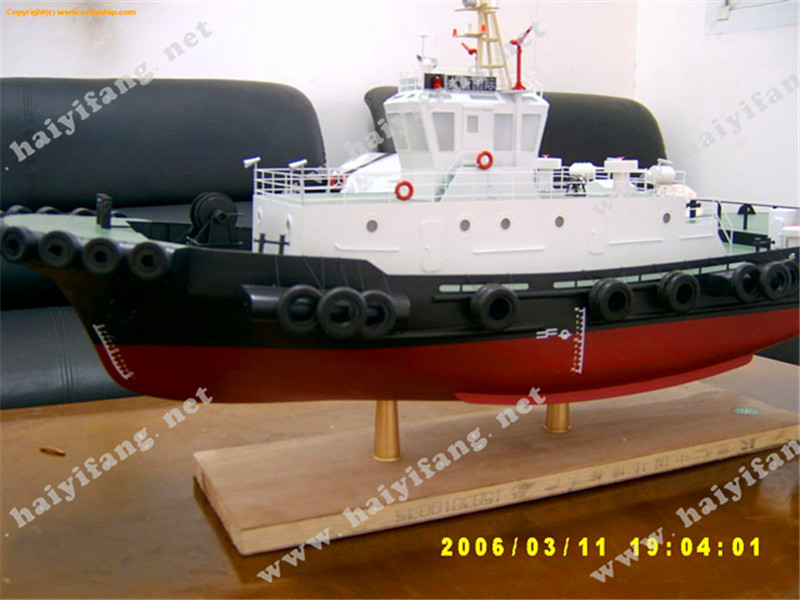otherboat: (38, 42, 800, 403)
